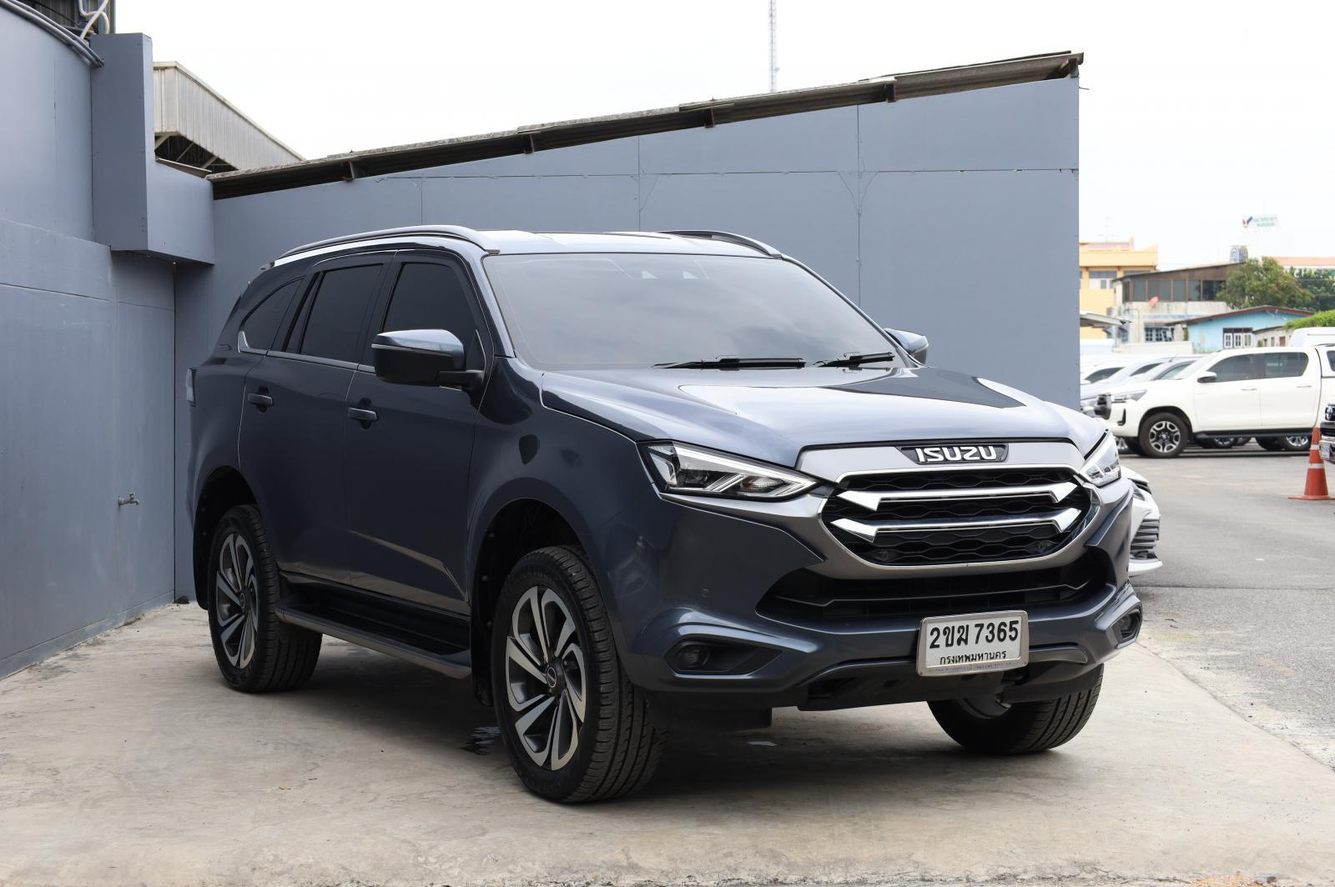license-plate: (913, 606, 1032, 682)
